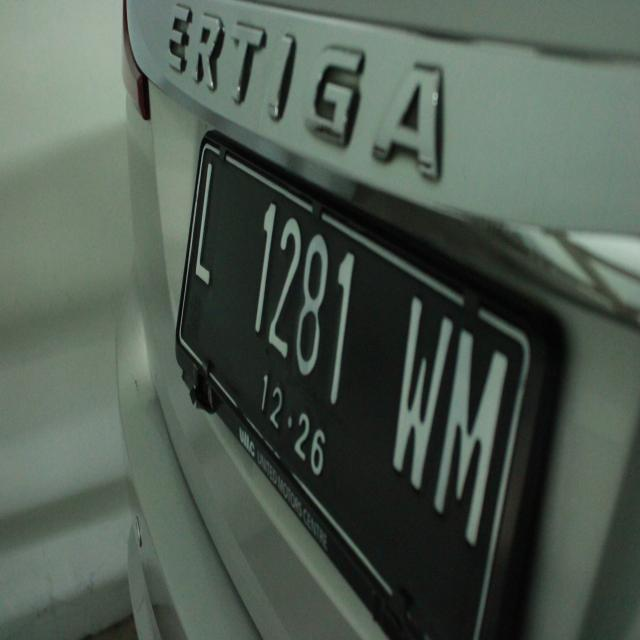1: (320, 238, 359, 414), (242, 188, 280, 342)
8: (296, 220, 334, 380)
L: (182, 146, 224, 300)
M: (428, 308, 504, 554)
R: (268, 210, 306, 366)
W: (380, 268, 452, 502)
